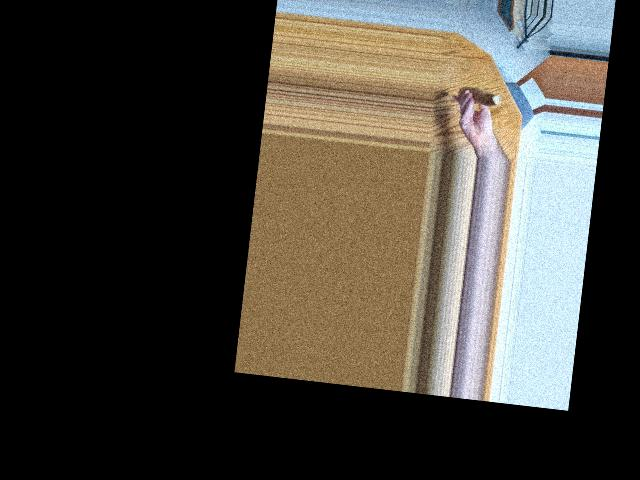sweet_potato: (462, 84, 501, 111)
